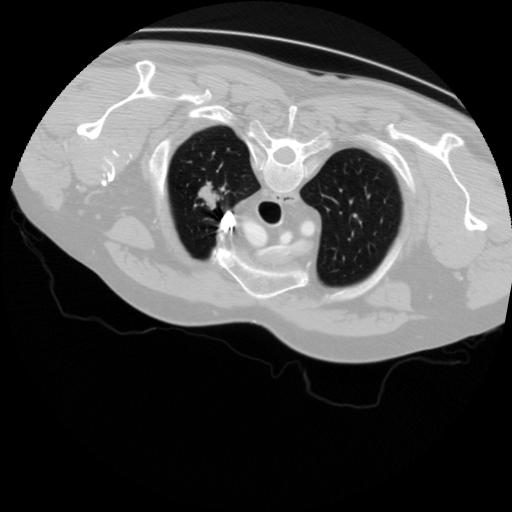nodule: (191, 181, 222, 212)
